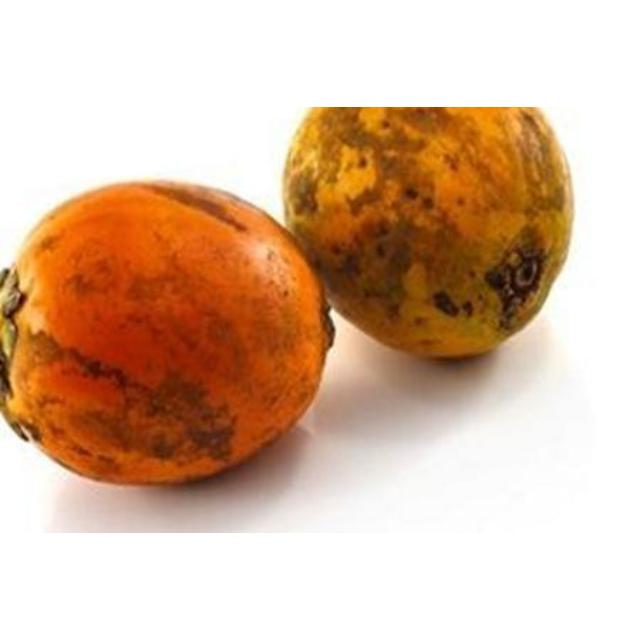good: (0, 181, 336, 488), (283, 107, 576, 364)
